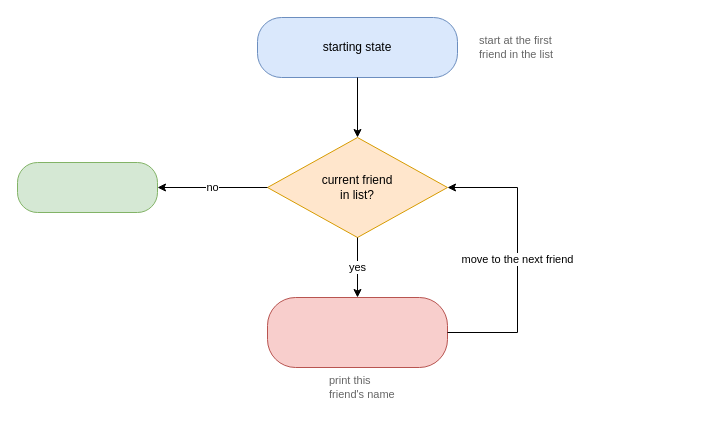
This 715x425 diagram has some shape labels left out. Each missing label, with the centre of its shape:
"done" goes at (87,187).
"loop body" goes at (357,332).
